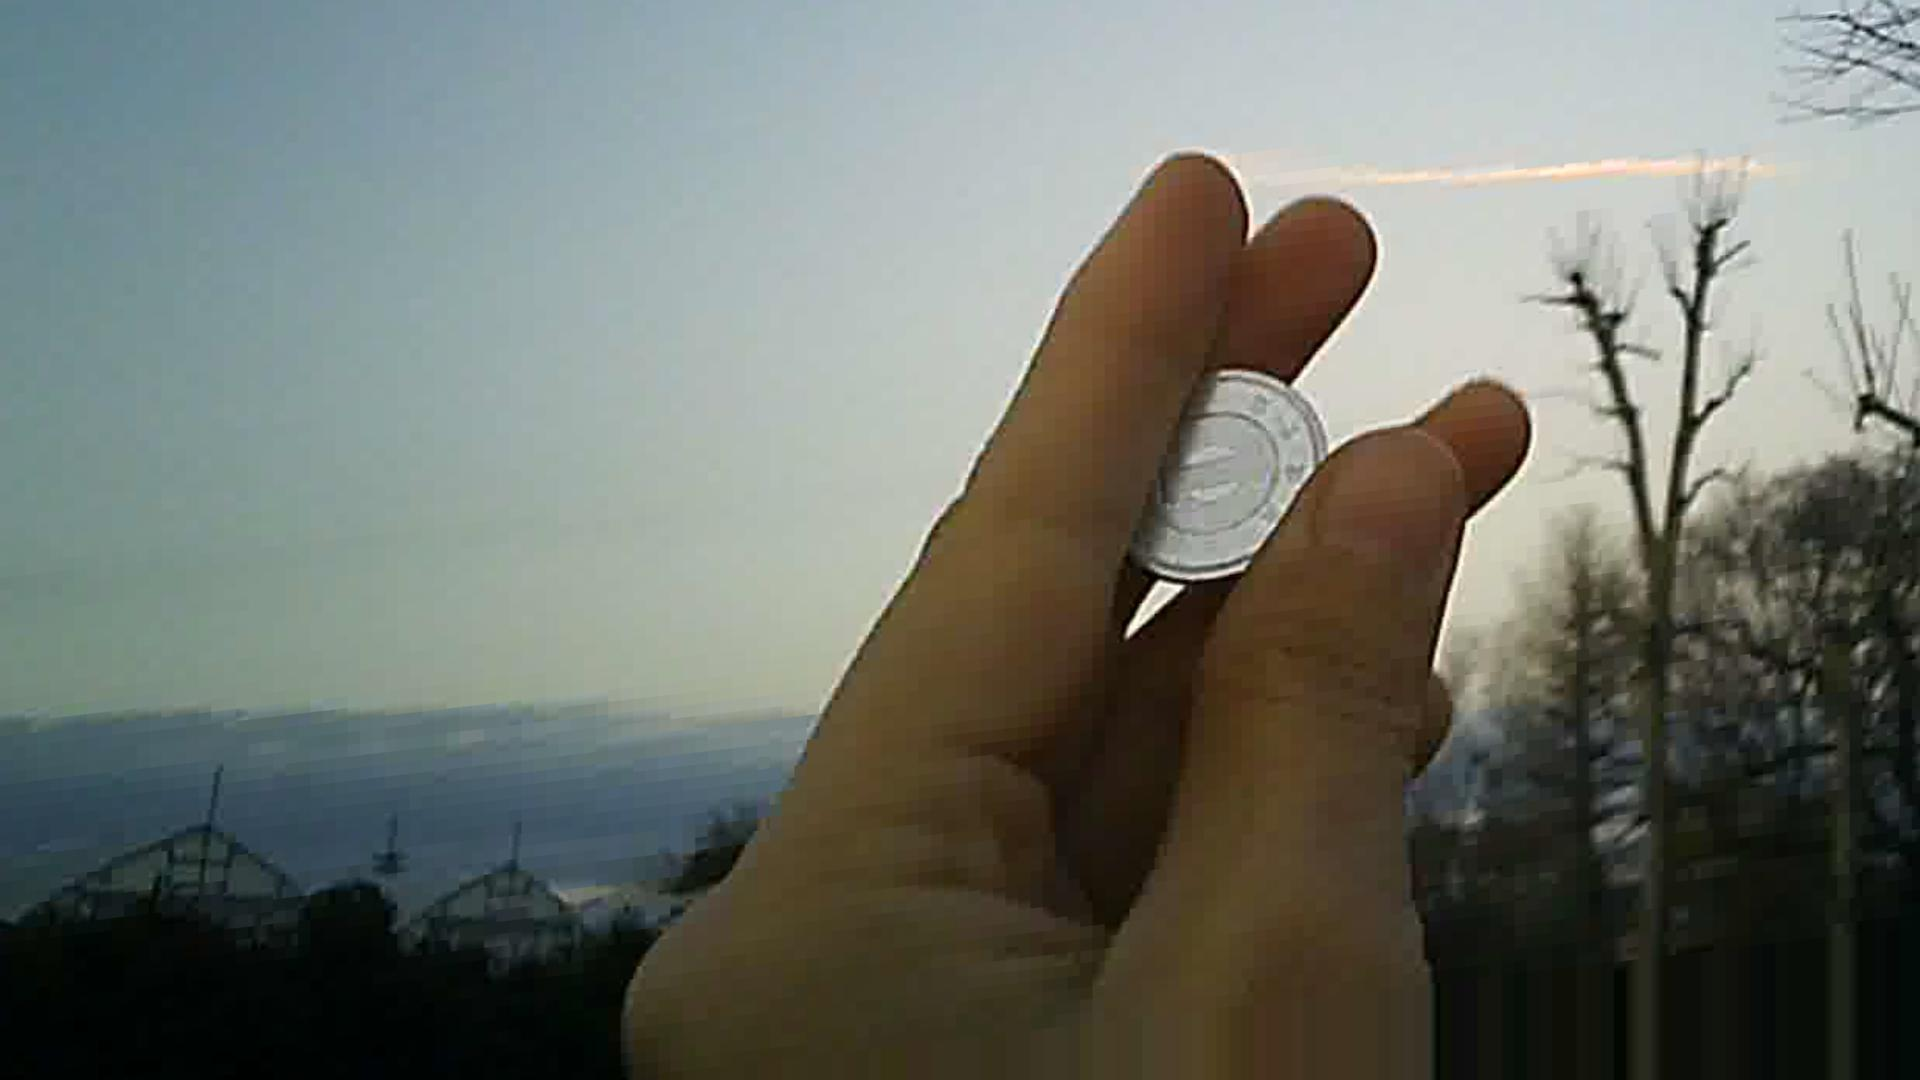1 Yen: (1098, 361, 1342, 583)
